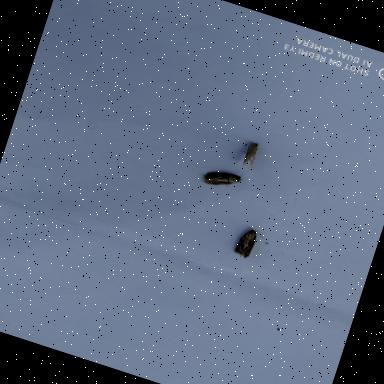pbw: (230, 220, 269, 264), (200, 163, 246, 196), (234, 136, 264, 174)
